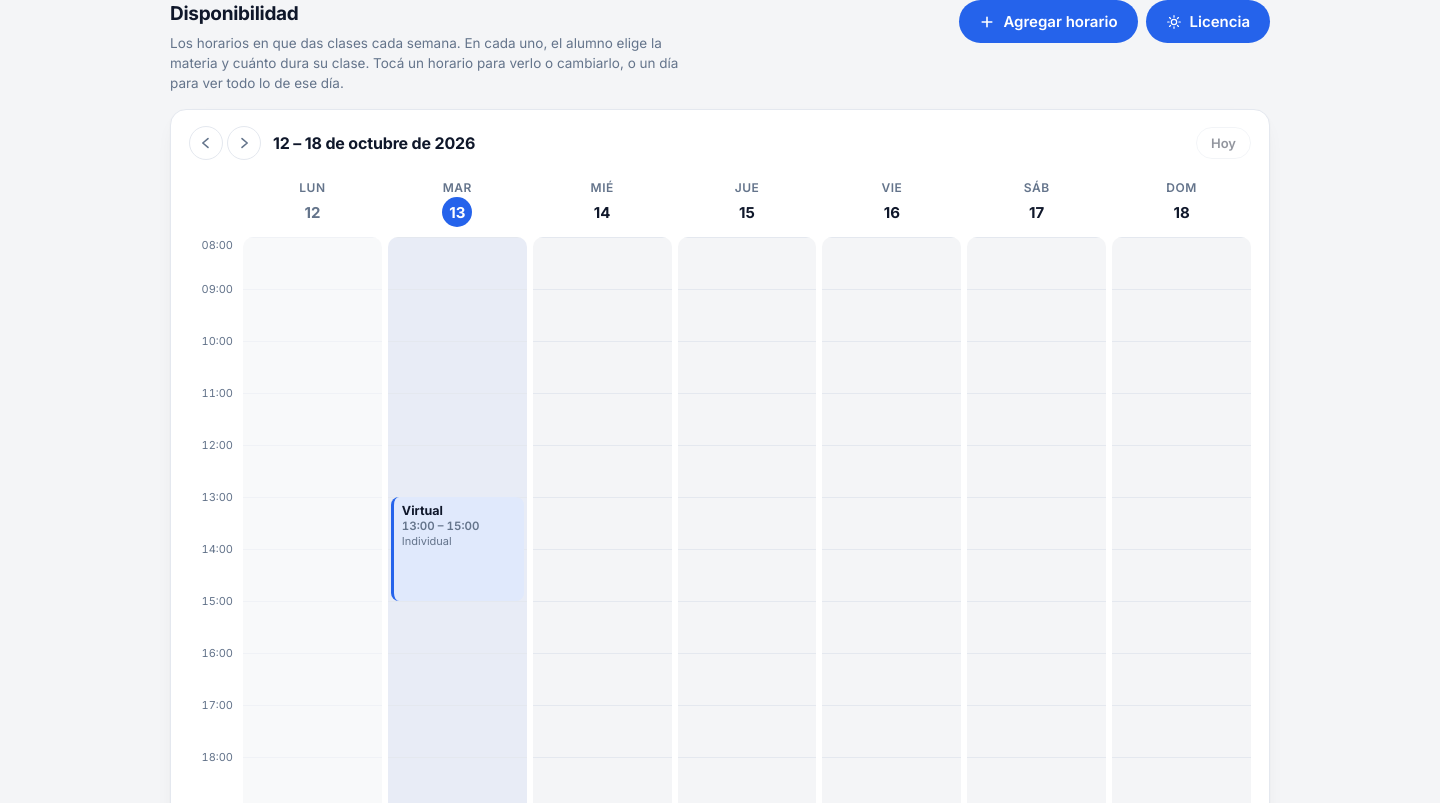
it: AvailabilityPage — vista de docente › un día que ya pasó se ve pero no se toca
Click the button with aria-label "13:00 a 15:00": (457, 549) top-left (391, 497), bottom-right (524, 601)
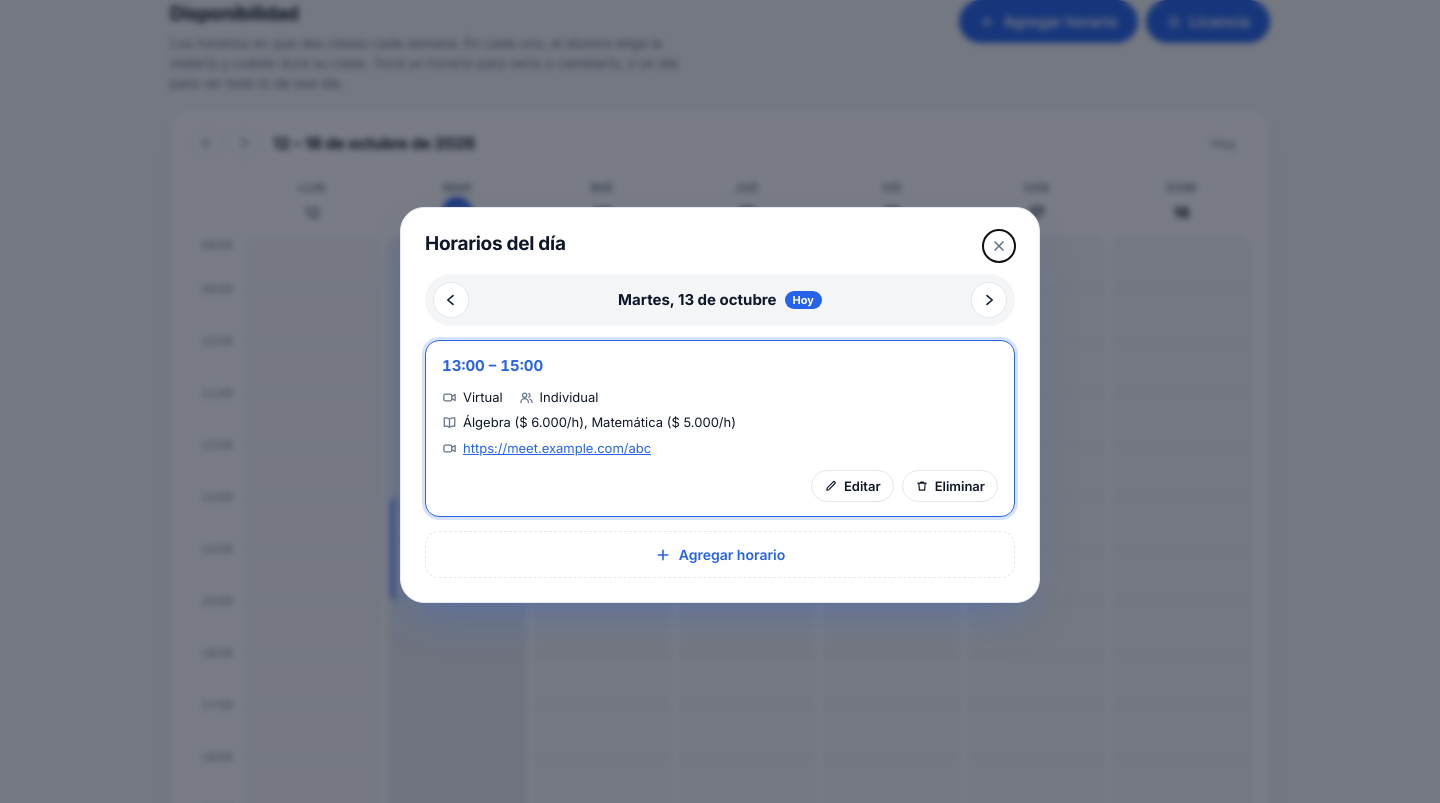
Click the button named "Día anterior": (451, 300) top-left (433, 282), bottom-right (469, 318)
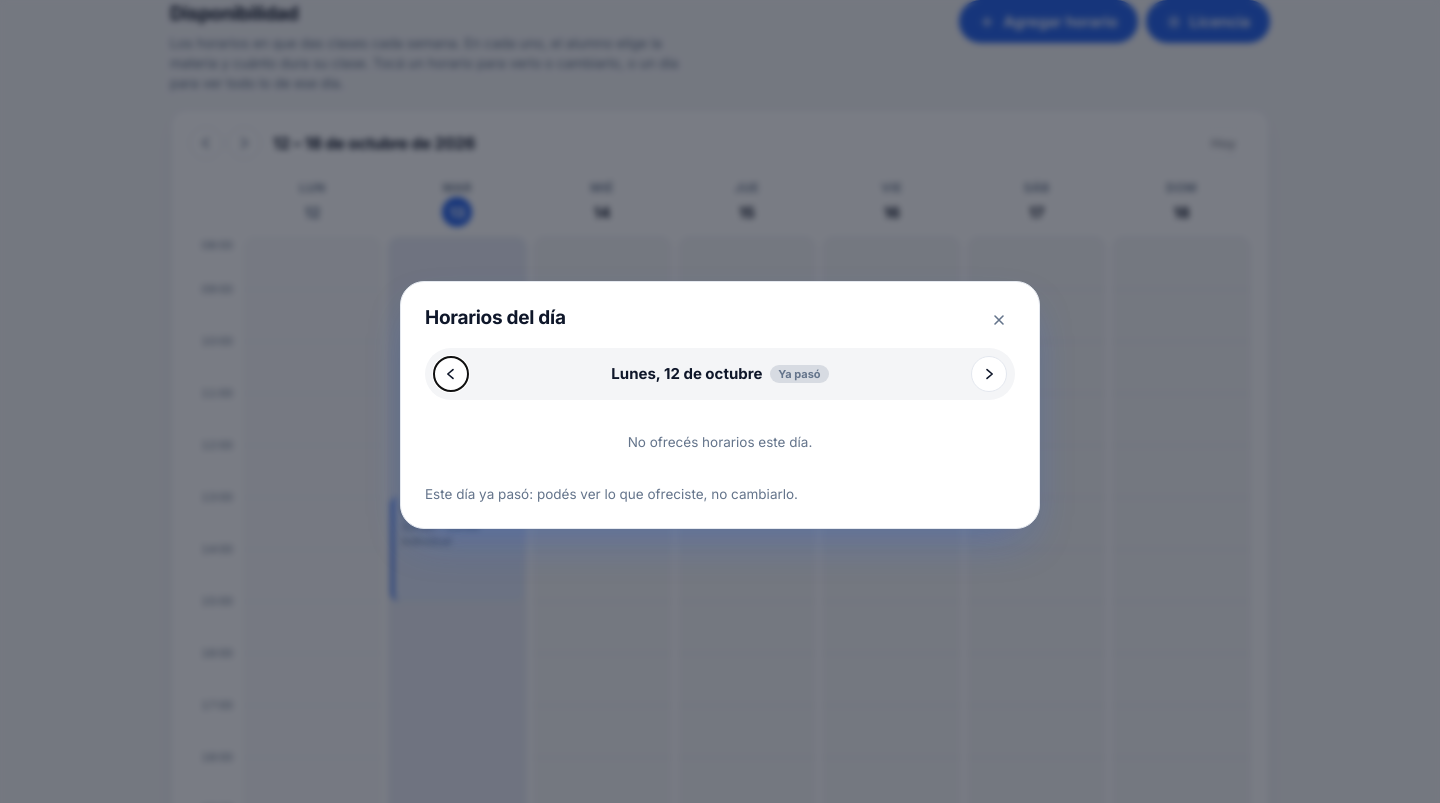
Expected: the text "Ya pasó" is shown, top-left (770, 364), bottom-right (829, 383)
